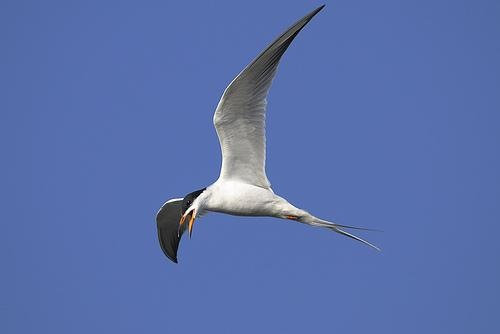bird: (155, 1, 383, 264)
